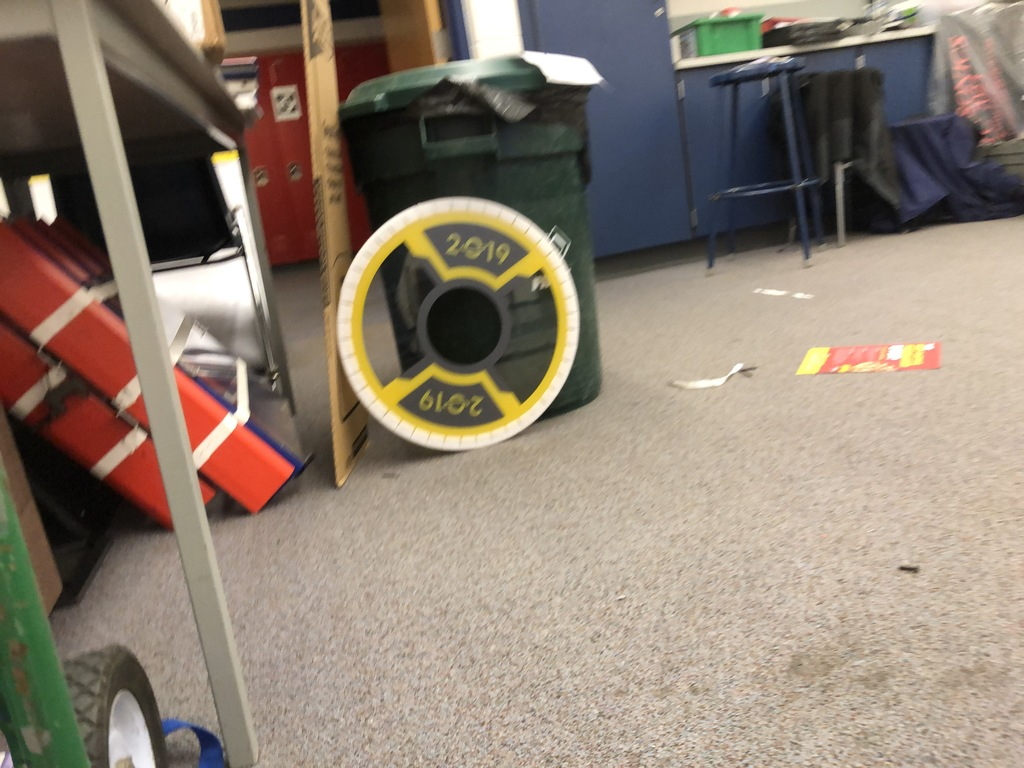hatch_panel: (324, 189, 597, 471)
